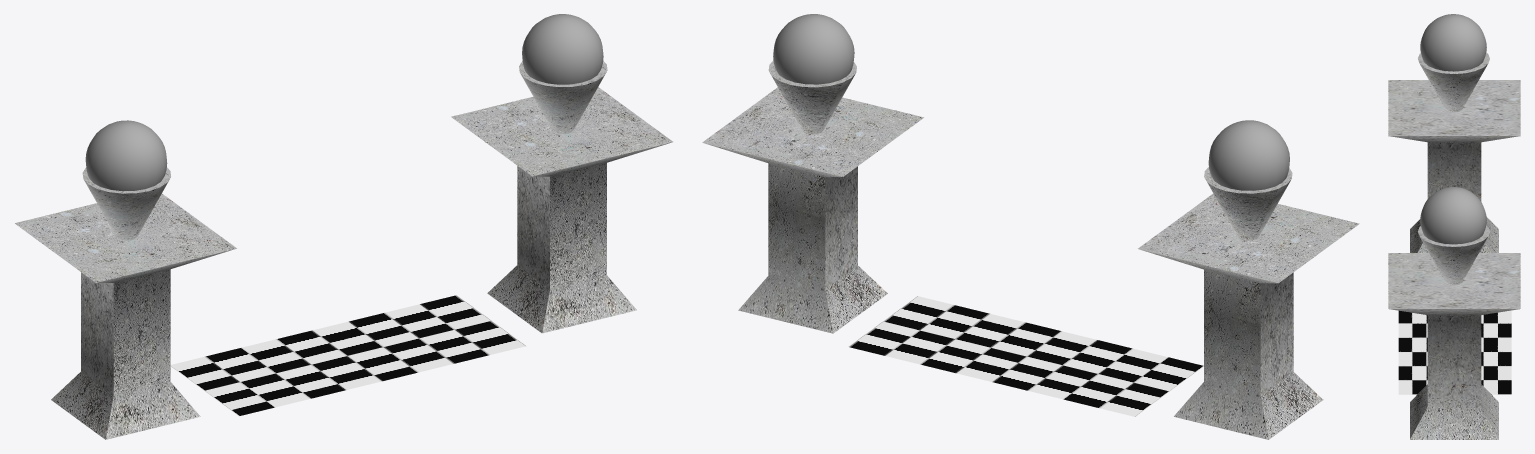
The model's file is startline.fbx.
3 views of the same model, side by side, from view 1: azimuth 30°, elevation 25°; view 2: azimuth 150°, elevation 25°; view 3: azimuth 270°, elevation 25° (orthographic). The views are drawn at different scales.
Parts seen in each view (by area): view 1: pCone2, pCone3, pPlane1; view 2: pCone3, pCone2, pPlane1; view 3: pCone3, pCone2, pPlane1.
Boxes of the visible parts, <box> form: pCone2: <box>15,120,236,439</box>; pCone3: <box>451,14,672,333</box>; pPlane1: <box>170,295,525,416</box>; pCone3: <box>702,14,923,333</box>; pCone2: <box>1138,120,1359,439</box>; pPlane1: <box>848,296,1203,416</box>; pCone3: <box>1388,187,1520,439</box>; pCone2: <box>1388,14,1520,252</box>; pPlane1: <box>1398,310,1511,394</box>.
Bounding box in the file's own units: 54.01 × 25.6 × 13.21.
Materials: 3 (2 with a texture image).
